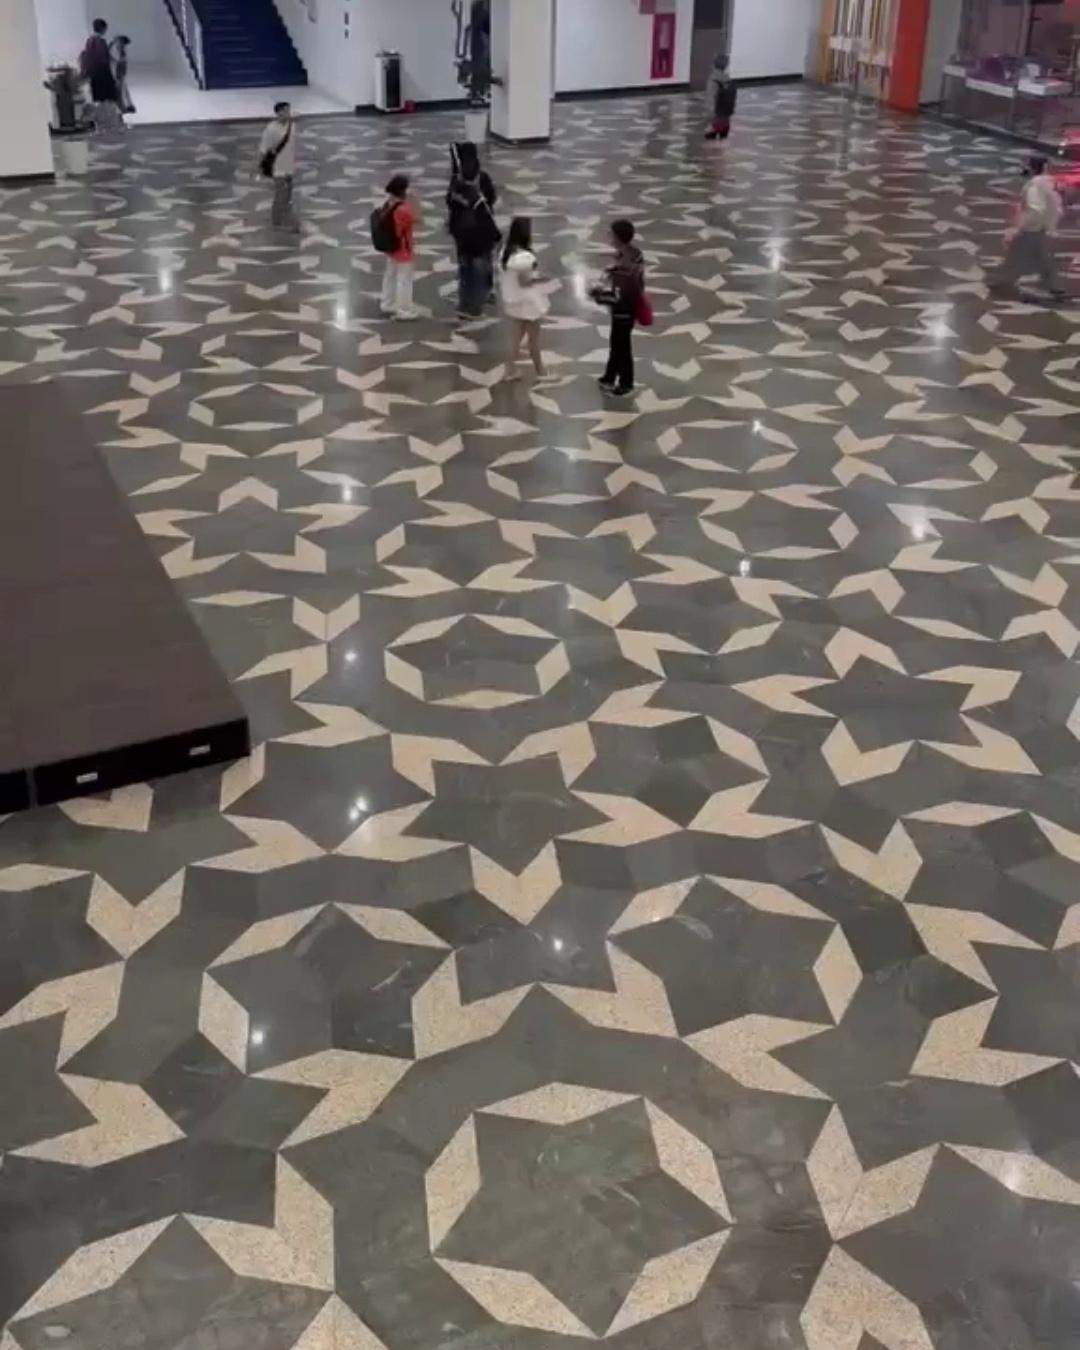your_class: (588, 217, 655, 399), (499, 216, 558, 382), (997, 156, 1065, 301), (445, 159, 499, 323), (369, 173, 423, 323), (258, 100, 300, 231), (82, 17, 119, 114), (446, 140, 497, 209), (703, 54, 737, 152)
